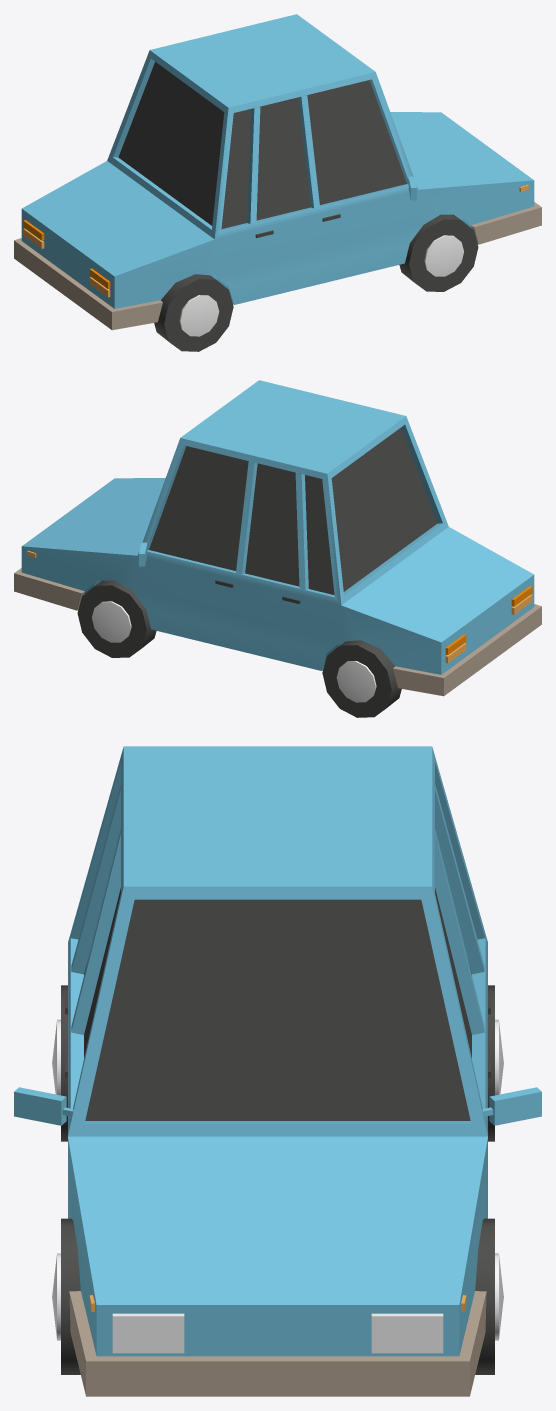
The model's file is car_blue.fbx.
The picture shows the model from 3 angles, top to bottom: view 1: azimuth 30°, elevation 25°; view 2: azimuth 150°, elevation 25°; view 3: azimuth 270°, elevation 25°; orthographic projection. The views are drawn at different scales.
Parts seen in each view (by area): view 1: car_blue; view 2: car_blue; view 3: car_blue.
Part boxes in pixels (x1,y1,x2,y2): car_blue: (14,14,541,351); car_blue: (14,380,541,717); car_blue: (14,746,541,1396).
Bounding box in the file's own units: 290 × 142 × 158.
1 material, 1 textured.
